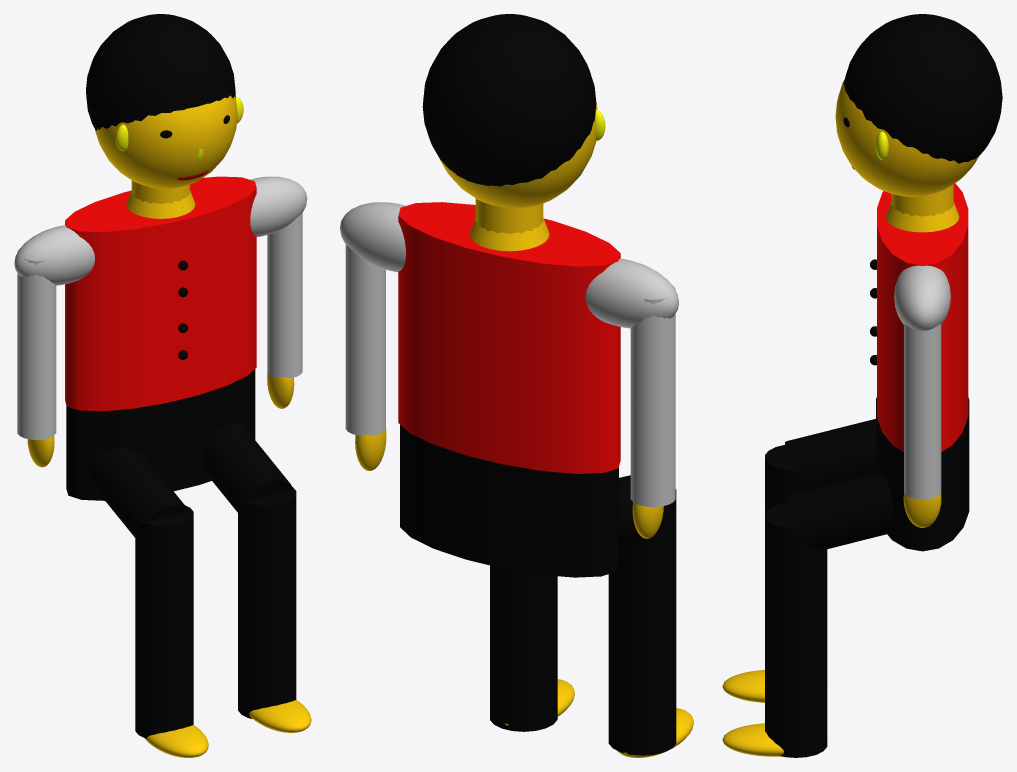
Rendered from nguoingoi.fbx.
The picture shows the model from 3 angles, left to right: view 1: azimuth 30°, elevation 25°; view 2: azimuth 150°, elevation 25°; view 3: azimuth 270°, elevation 25°; orthographic projection. The views are drawn at different scales.
Visible parts, largest first — view 1: VCyl002, VCyl005, VCyl007, VSph001, VCyl003, VSph002, VCyl009, VCyl008, VCyl004, VCyl006, VSph017, VSph015 (+6 smaller); view 2: VCyl002, VSph001, VCyl003, VCyl005, VCyl007, VCyl009, VCyl008, VSph017, VSph015, VSph002, VCyl001, VCone001 (+4 smaller); view 3: VSph001, VCyl007, VCyl002, VCyl008, VCyl006, VSph002, VCyl003, VCyl004, VSph015, VCyl005, VSph014, VCone001 (+3 smaller).
Part boxes in pixels (left/top/right/bottom): VCyl002: left=65, top=176, right=256, bottom=411; VCyl005: left=135, top=505, right=193, bottom=738; VCyl007: left=238, top=487, right=296, bottom=718; VSph001: left=86, top=14, right=235, bottom=130; VCyl003: left=66, top=369, right=255, bottom=500; VSph002: left=95, top=95, right=237, bottom=188; VCyl009: left=17, top=248, right=56, bottom=439; VCyl008: left=267, top=213, right=302, bottom=378; VCyl004: left=89, top=447, right=188, bottom=537; VCyl006: left=203, top=422, right=293, bottom=512; VSph017: left=14, top=225, right=94, bottom=285; VSph015: left=250, top=176, right=307, bottom=236; VCyl002: left=398, top=202, right=620, bottom=473; VSph001: left=422, top=14, right=596, bottom=186; VCyl003: left=400, top=425, right=618, bottom=577; VCyl005: left=608, top=489, right=676, bottom=755; VCyl007: left=490, top=565, right=557, bottom=731; VCyl009: left=630, top=285, right=675, bottom=507; VCyl008: left=345, top=244, right=385, bottom=435; VSph017: left=585, top=258, right=678, bottom=328; VSph015: left=340, top=202, right=405, bottom=272; VSph002: left=440, top=102, right=597, bottom=207; VCyl001: left=475, top=198, right=543, bottom=233; VCone001: left=469, top=218, right=549, bottom=251; VSph001: left=844, top=14, right=1002, bottom=163; VCyl007: left=765, top=503, right=827, bottom=757; VCyl002: left=877, top=183, right=968, bottom=451; VCyl008: left=904, top=324, right=941, bottom=499; VCyl006: left=785, top=471, right=893, bottom=549; VSph002: left=835, top=80, right=978, bottom=196; VCyl003: left=876, top=397, right=969, bottom=551; VCyl004: left=785, top=419, right=875, bottom=489; VSph015: left=894, top=265, right=950, bottom=330; VCyl005: left=765, top=445, right=807, bottom=512; VSph014: left=722, top=723, right=827, bottom=756; VCone001: left=885, top=202, right=959, bottom=232.
Size of the model in its own units: 3.38 by 7.39 by 2.66.
